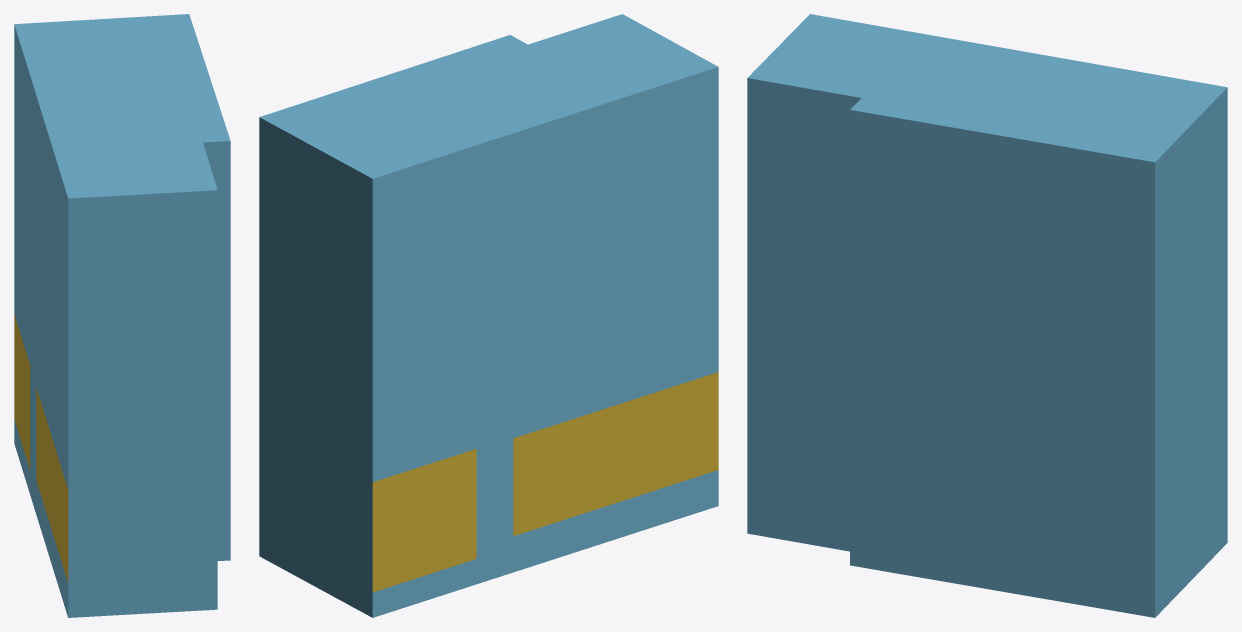
Rendered from bldg_7d8653ab-f77c-4363-8e11-dc41c7efa900.obj.
The picture shows the model from 3 angles, left to right: view 1: azimuth 30°, elevation 25°; view 2: azimuth 150°, elevation 25°; view 3: azimuth 270°, elevation 25°; orthographic projection. The views are drawn at different scales.
Size of the model in its own units: 12.45 by 17.83 by 17.03.
